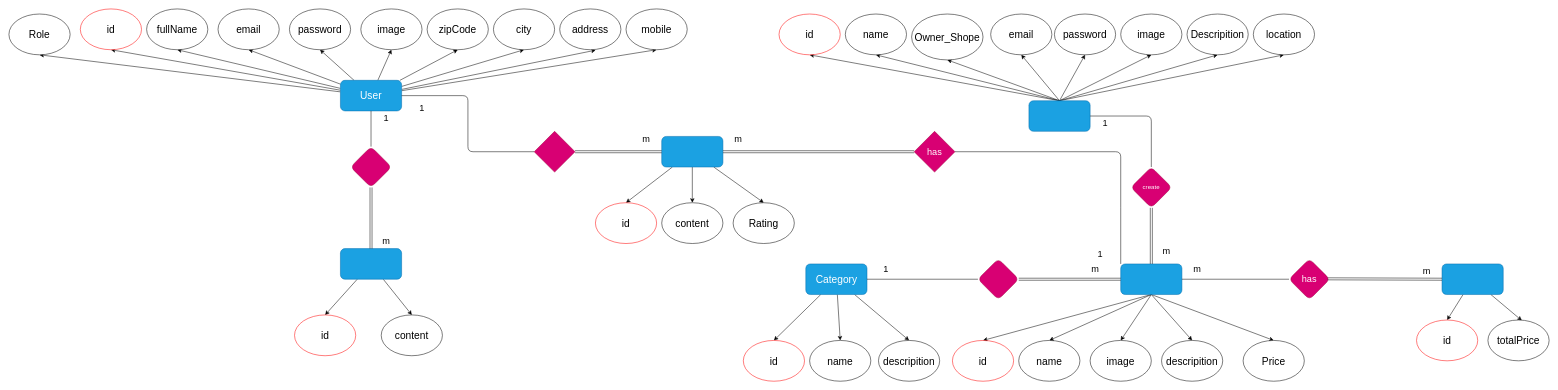
This 1558x390 diagram has some shape labels left out. Here are the shapes that lost their labels. From the top down, the centre of each, then its label:
At (x=1059, y=115): "Shope".
At (x=370, y=166): "receives".
At (x=554, y=151): "write".
At (x=692, y=151): "Review".
At (x=371, y=263): "Notification".
At (x=998, y=279): "have".
At (x=1151, y=279): "product".
At (x=1472, y=279): "order".
